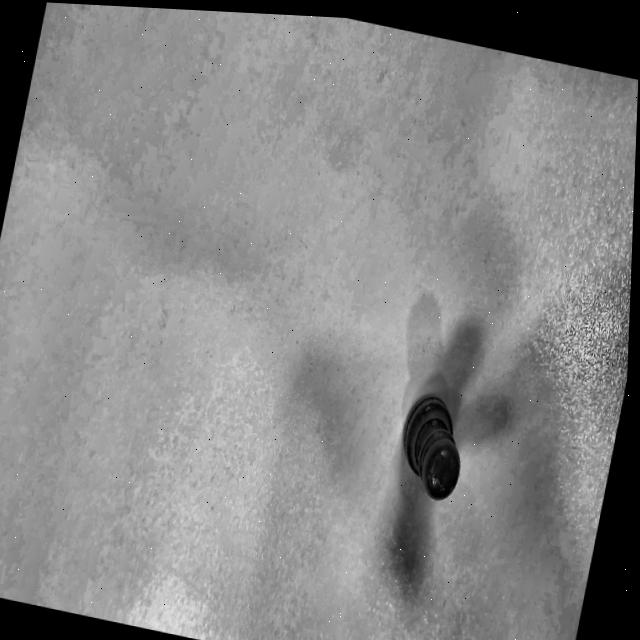black-pawn: (387, 379, 481, 514)
